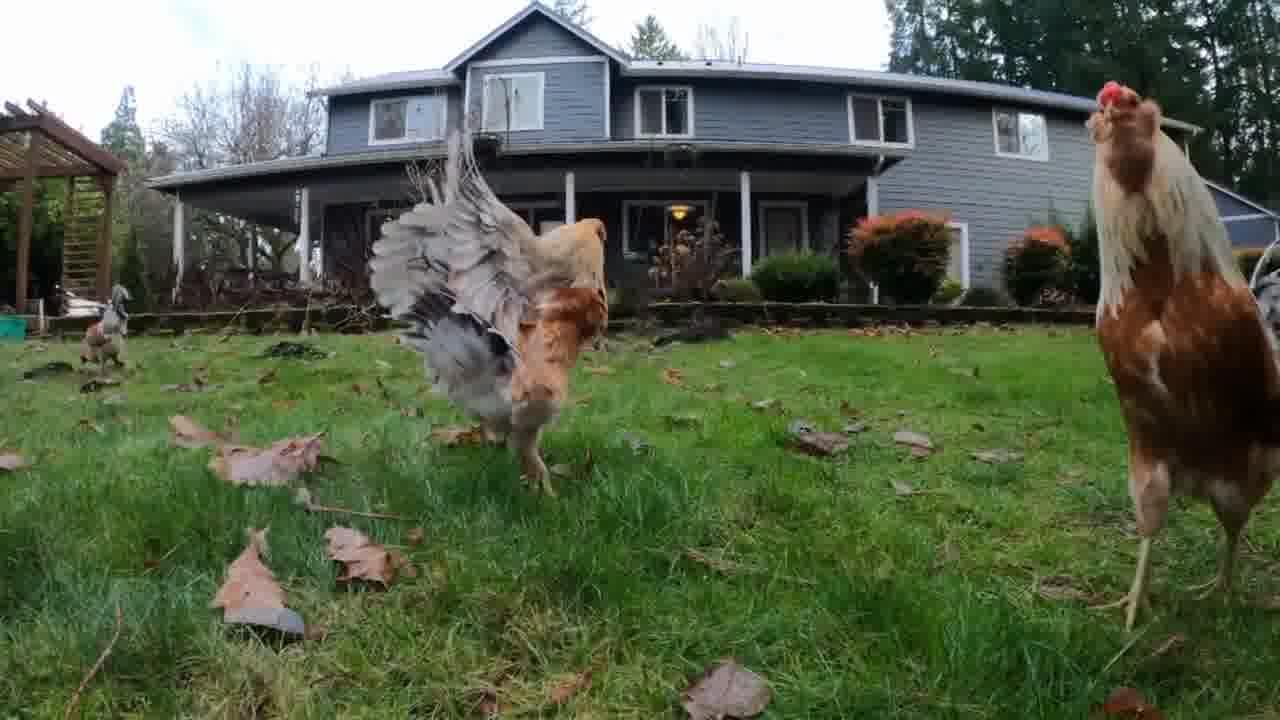Normal: (1054, 90, 1280, 604), (382, 126, 636, 510)
